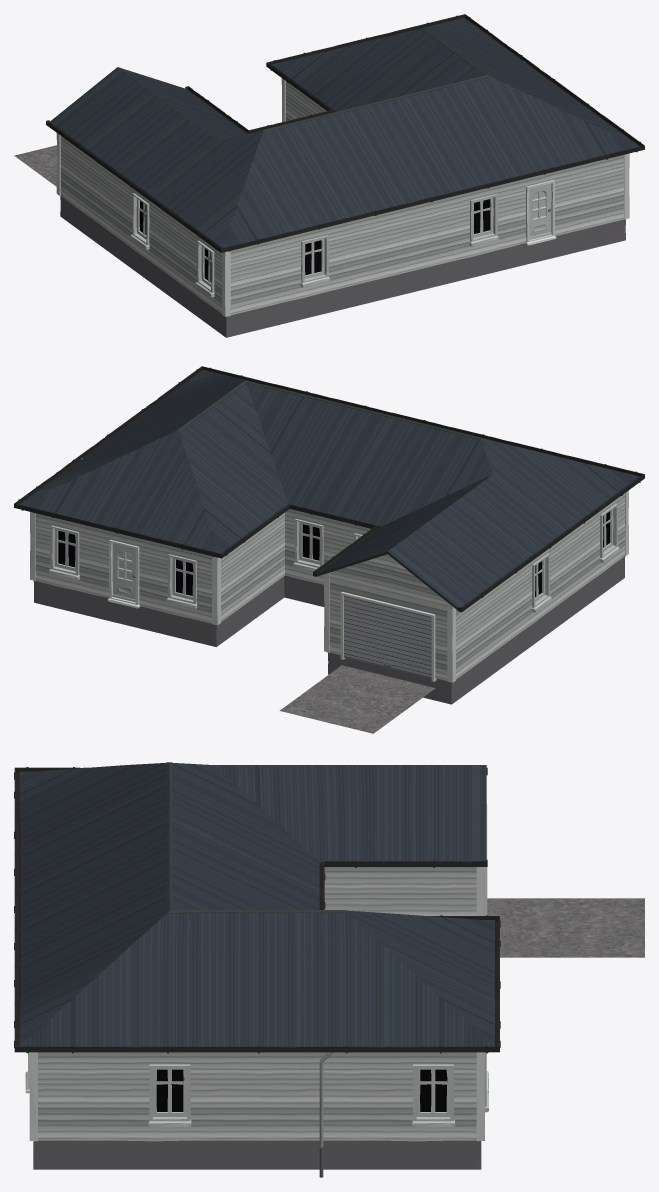
File: casa_blaca.glb
3 renders of one model, top to bottom at view 1: azimuth 30°, elevation 25°; view 2: azimuth 150°, elevation 25°; view 3: azimuth 270°, elevation 25°, orthographic. The views are drawn at different scales.
Visible parts, largest first — view 1: suburban-house_3, object 1; view 2: suburban-house_3, object 1; view 3: suburban-house_3, object 1.
Boxes of the visible parts, x1=… form: suburban-house_3: x1=46, y1=14, x2=644, y2=337; object 1: x1=14, y1=145, x2=56, y2=186; suburban-house_3: x1=14, y1=366, x2=644, y2=704; object 1: x1=279, y1=665, x2=435, y2=733; suburban-house_3: x1=14, y1=762, x2=500, y2=1177; object 1: x1=487, y1=898, x2=644, y2=957.
Size of the model in its own units: 18.87 by 6.41 by 17.99.
Materials: 2 (2 with a texture image).
